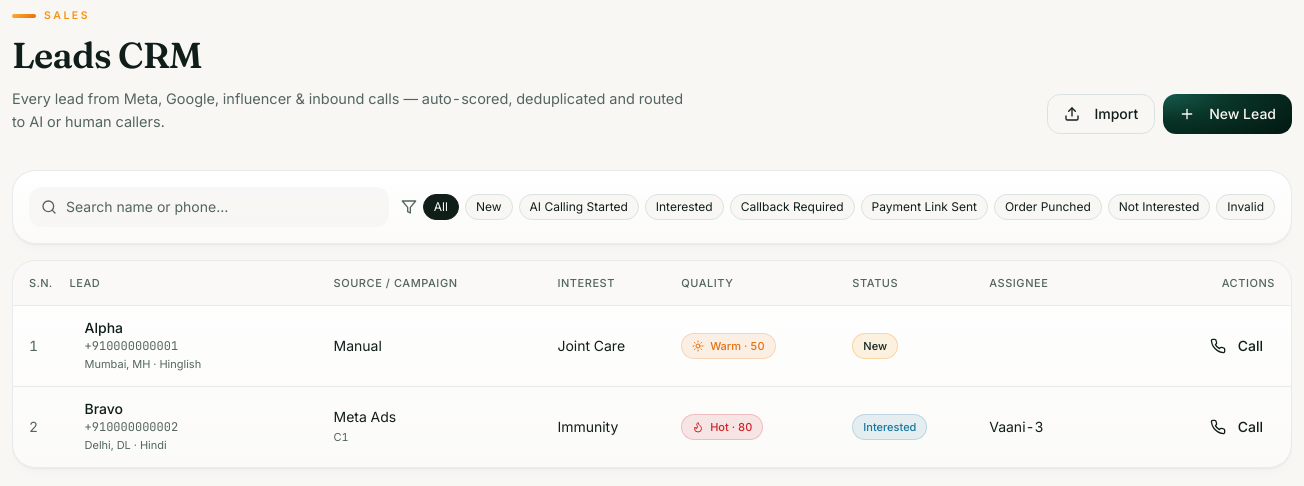
Test: Phase 16B-Hotfix-1 — Leads S.N. column › S.N. re-indexes against the filtered result set
This screenshot has width=1304, height=486.
Check: the text "Alpha" is shown, box 84,319 -> 123,336
Click the button "Interested". click: [684, 207]
box: 645,194 -> 724,220
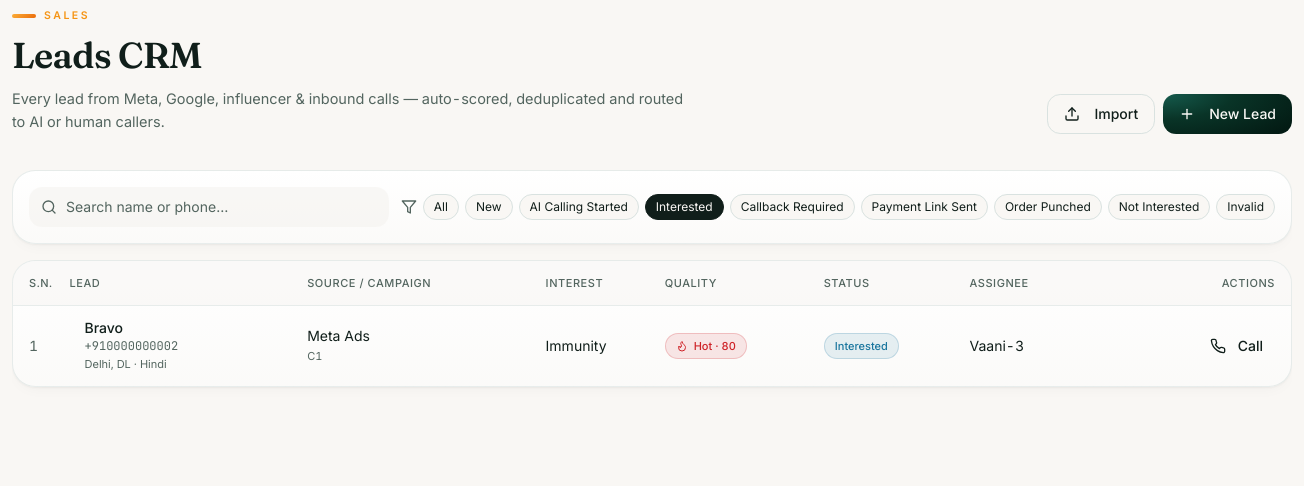
Check: the cell with test id "lead-sn-1" reads "1", box 29,337 -> 38,354
Check: the text "Alpha" is gone
